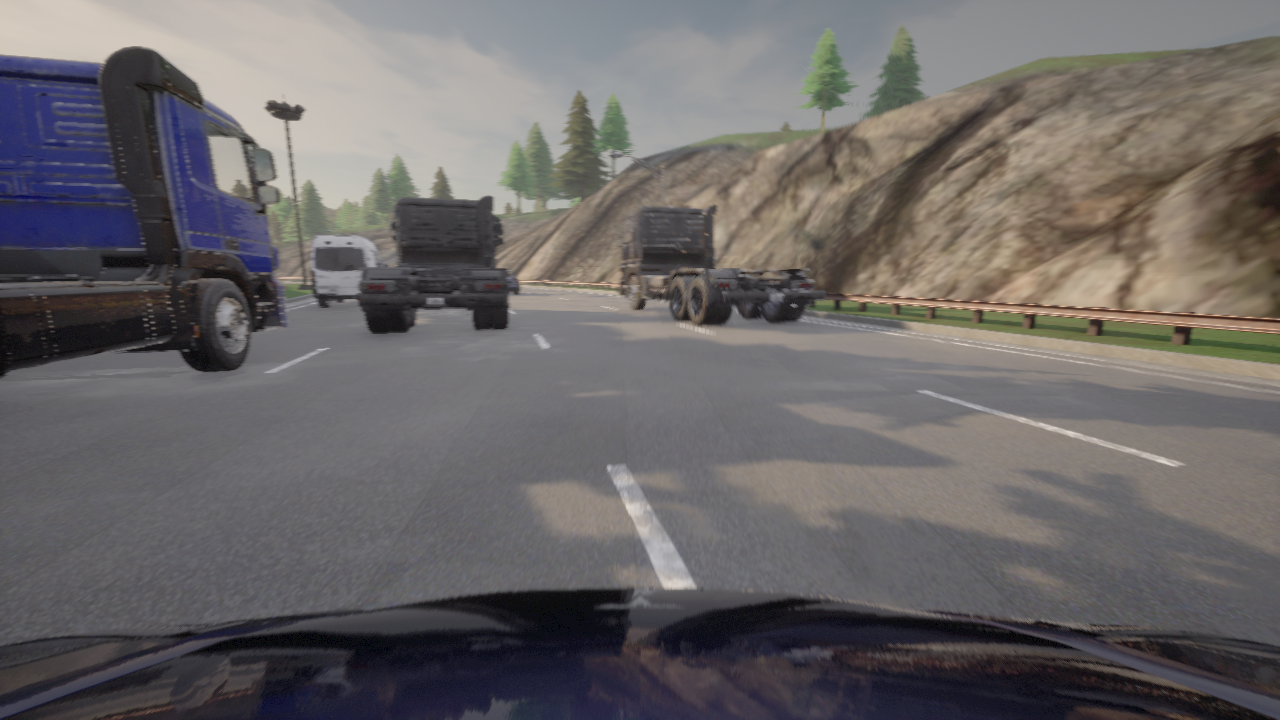cyclist: (0, 588, 1279, 719), (0, 46, 287, 377), (615, 204, 824, 324), (358, 196, 508, 332), (311, 235, 387, 306), (506, 270, 519, 293)
